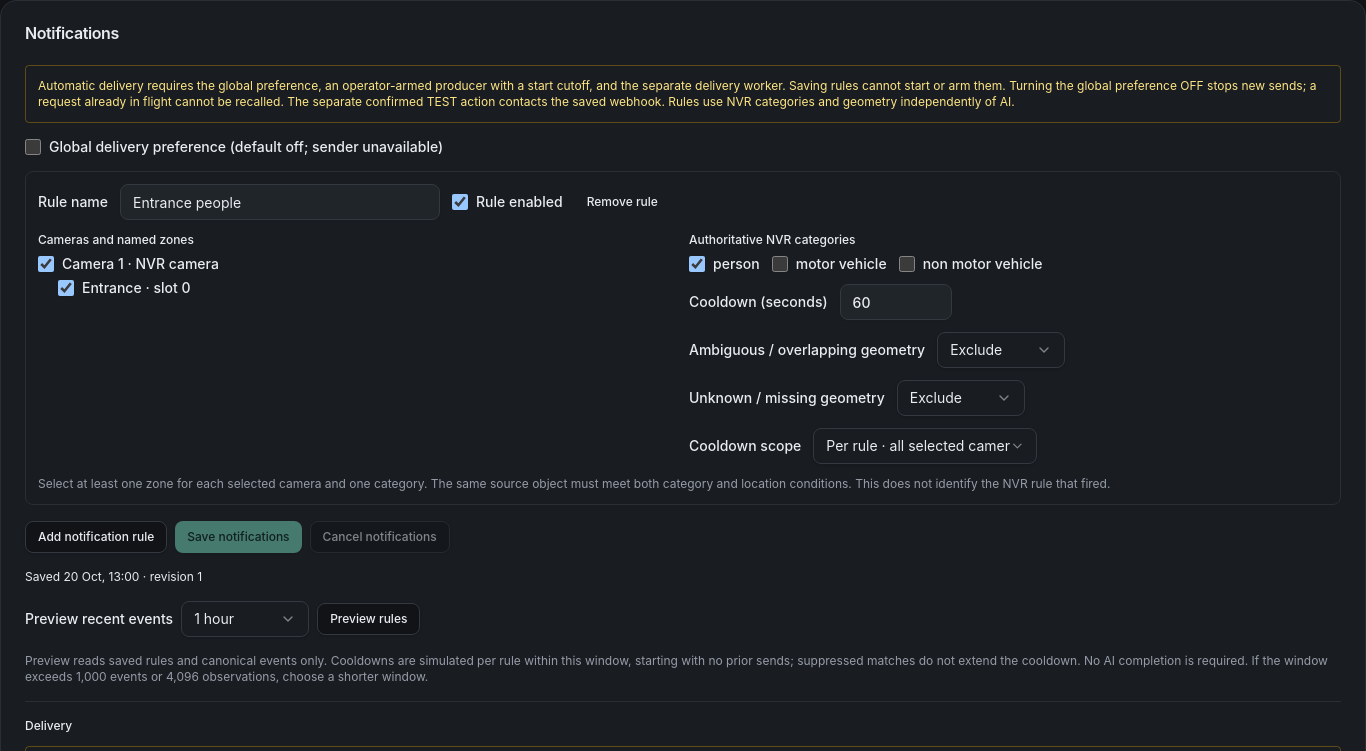
keeps an edited draft after failed save and lets the user cancel
The image size is (1366, 751).
Replace the text in the field labelled "Rule name" with "Draft name": (280, 202) [120,184,440,220]
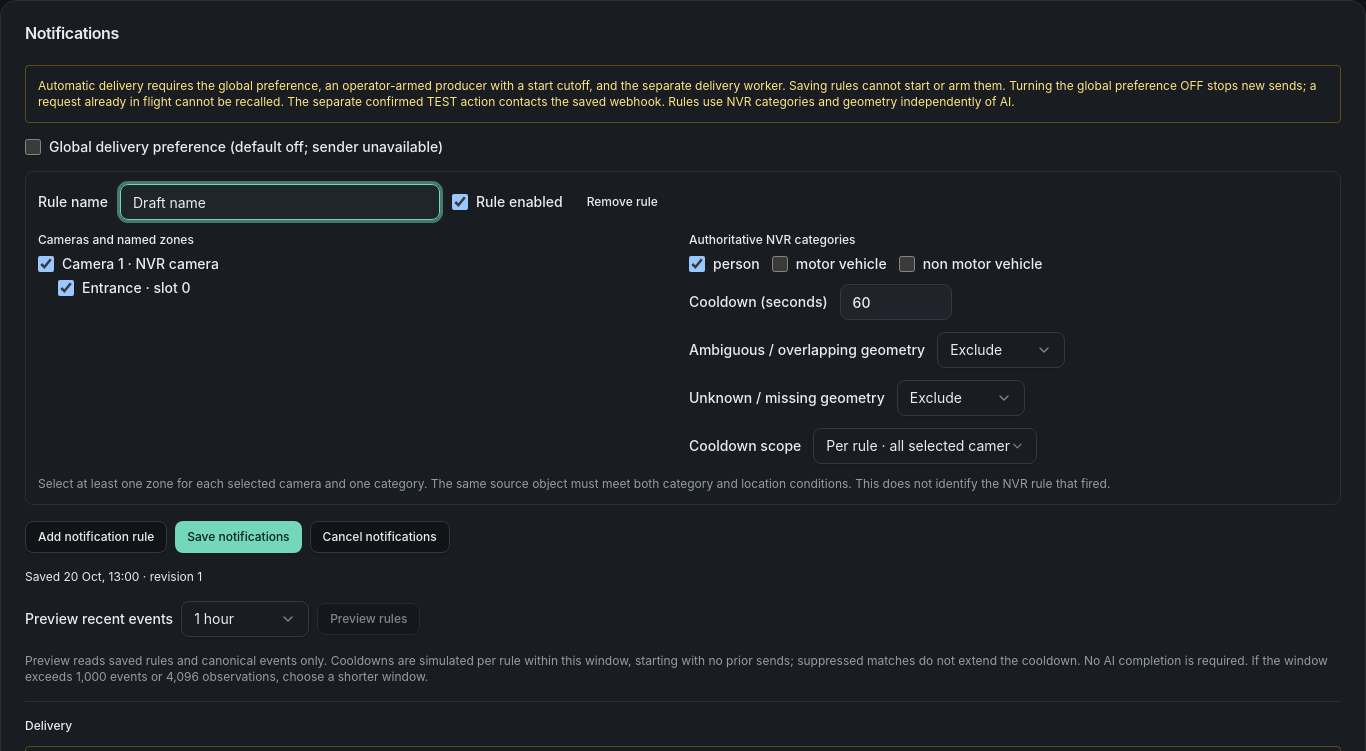
Click the button "Save notifications": (238, 537) [175,521,302,553]
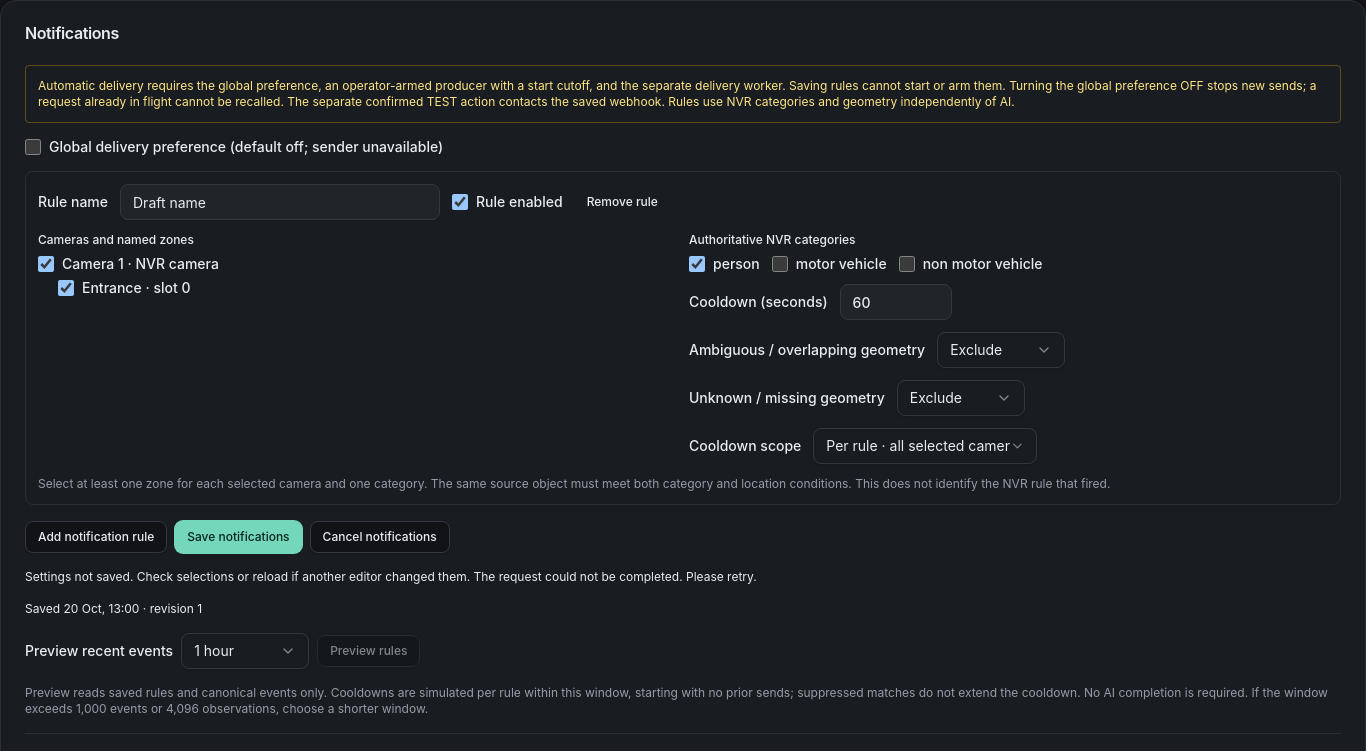
Expected: the 2nd message is shown, [25,569,757,584]
Click the button "Cancel notifications": (380, 537) [310,521,450,553]
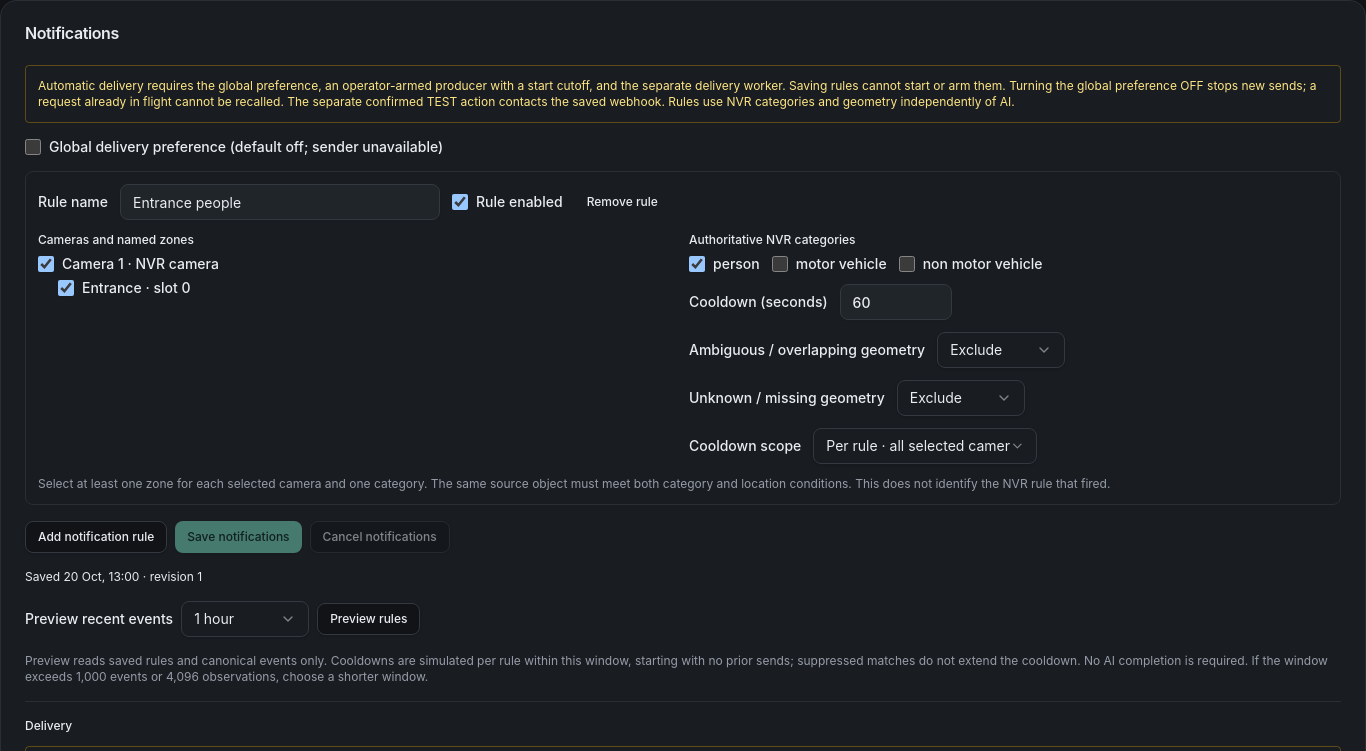
Expected: the field labelled "Rule name" holds "Entrance people", [120,184,440,220]
